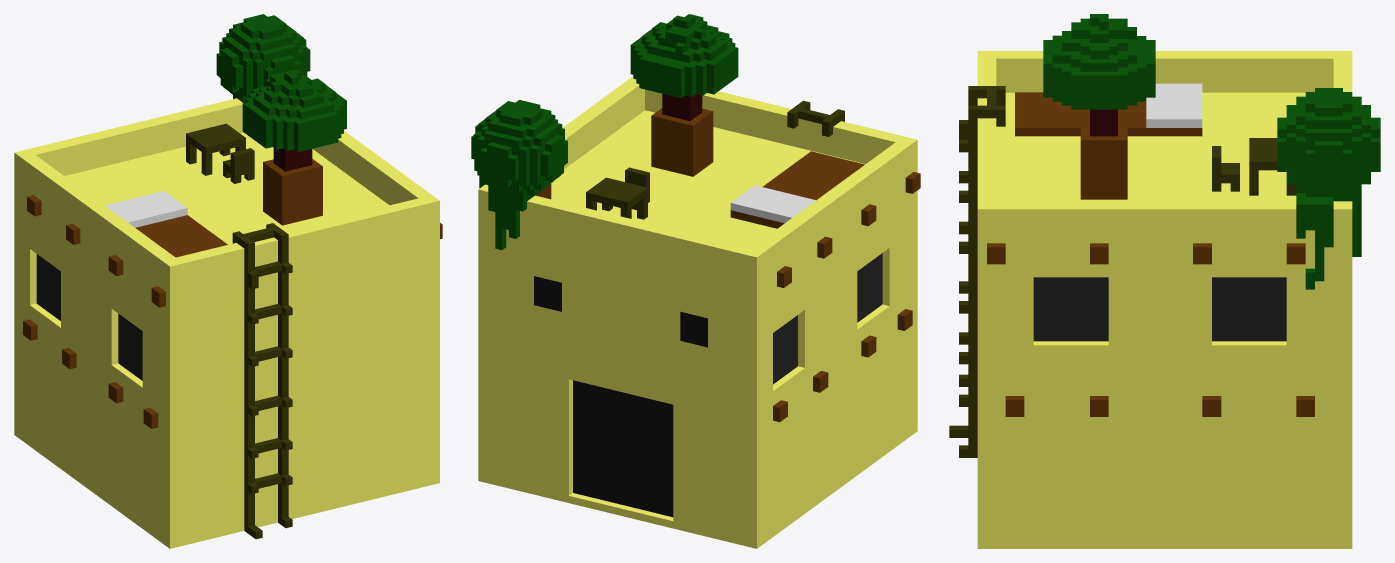
Rendered from house_1.glb.
3 renders of one model, left to right at view 1: azimuth 30°, elevation 25°; view 2: azimuth 150°, elevation 25°; view 3: azimuth 270°, elevation 25°, orthographic. The views are drawn at different scales.
Visible parts, largest first — view 1: Untitled; view 2: Untitled; view 3: Untitled.
Boxes of the visible parts, box(x1,y1,x2,y2) form: Untitled: box(14, 14, 442, 548); Untitled: box(471, 14, 920, 548); Untitled: box(949, 14, 1380, 548).
Size of the model in its own units: 4.2 by 5.6 by 4.6.
Materials: 1 (1 with a texture image).
